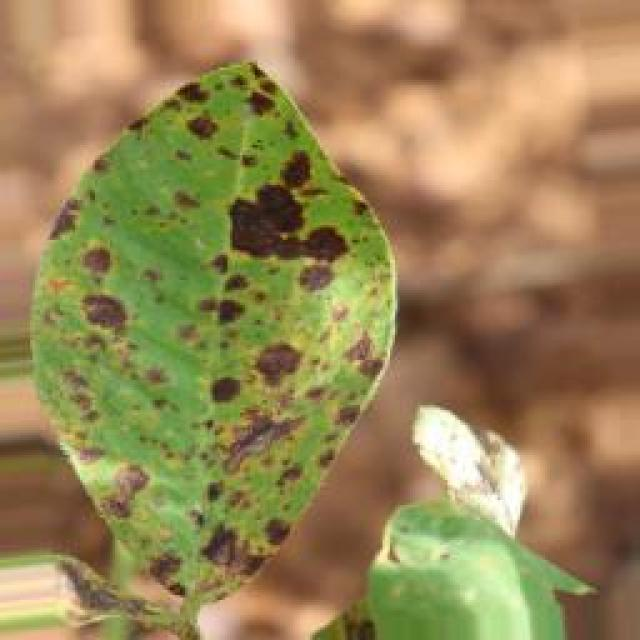Yellowish: (44, 50, 399, 587)
